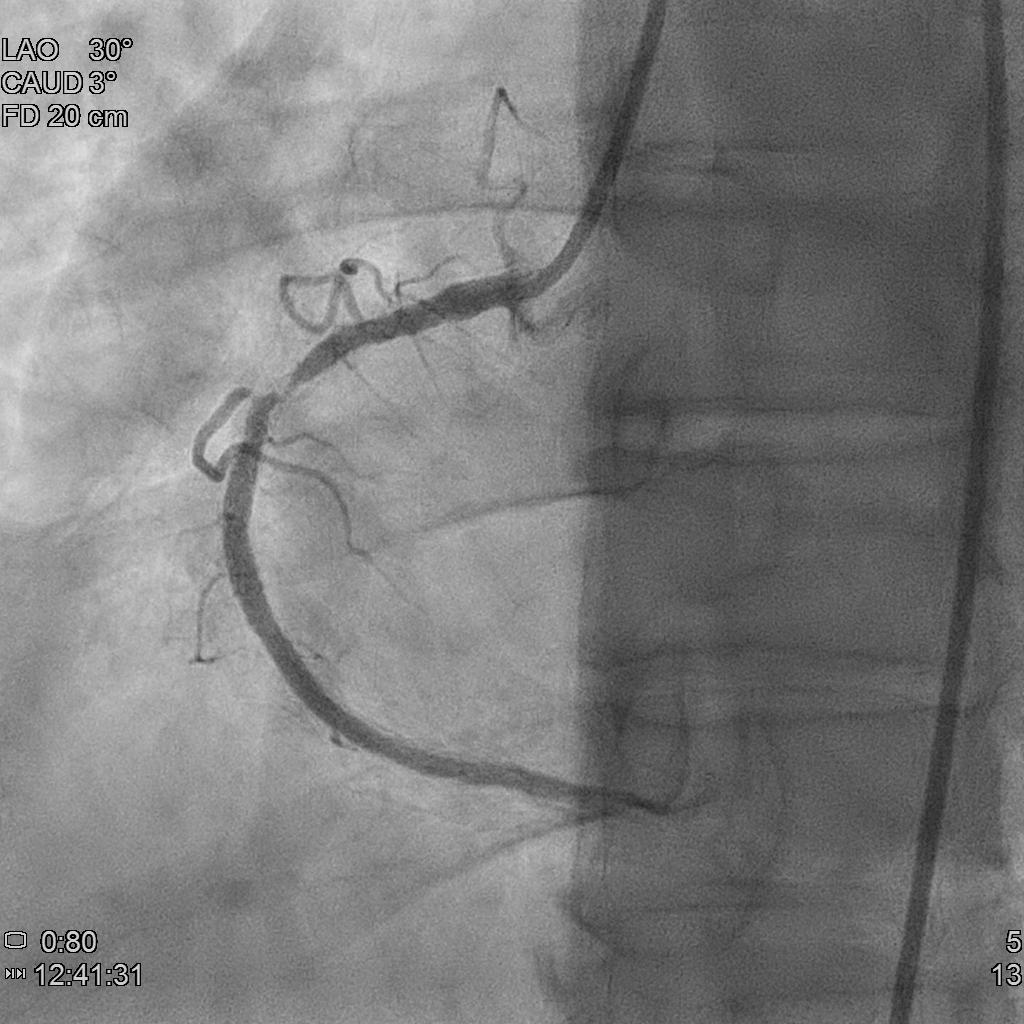block: (235, 342, 332, 430)
